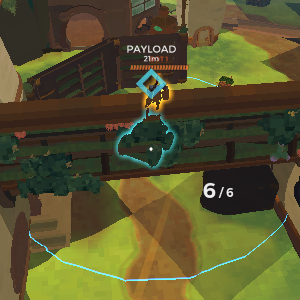model: (147, 79, 166, 112)
